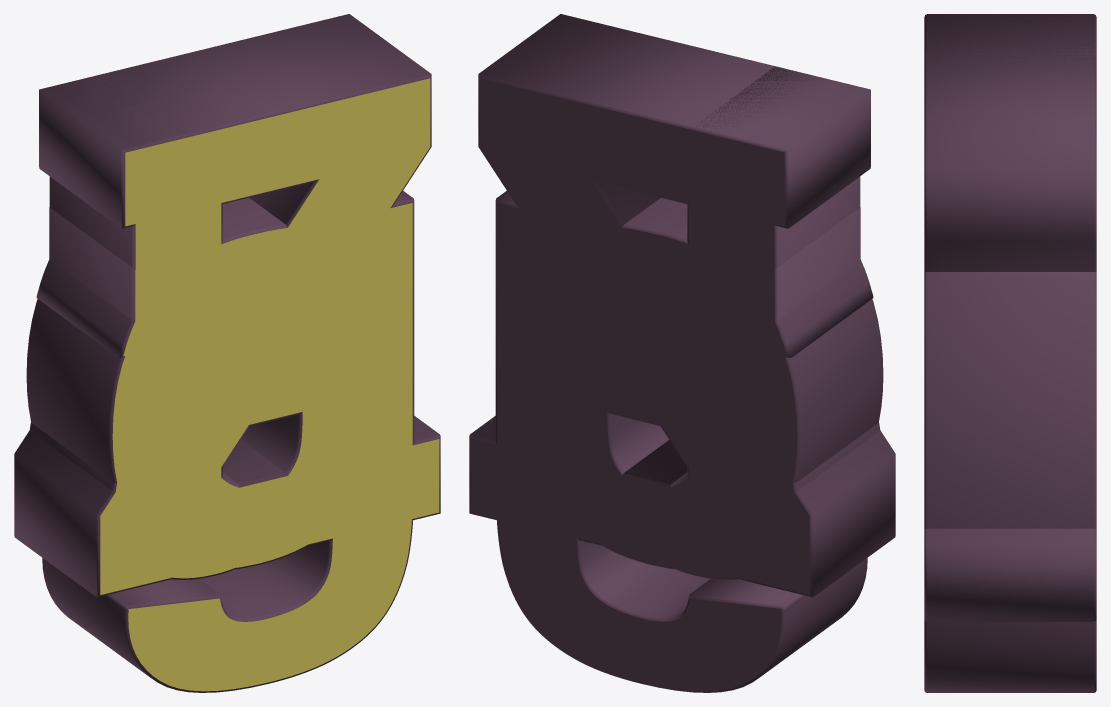
File: hero-lettering.glb
3 renders of one model, left to right at view 1: azimuth 30°, elevation 25°; view 2: azimuth 150°, elevation 25°; view 3: azimuth 270°, elevation 25°, orthographic.
Parts seen in each view (by area): view 1: HeroGlyph_Feng_0, HeroGlyph_Zhan_0, HeroGlyph_Feng_3, HeroGlyph_Feng_1, HeroGlyph_Zhan_2, HeroGlyph_Feng_2, HeroGlyph_Zhan_1; view 2: HeroGlyph_Feng_3, HeroGlyph_Zhan_0, HeroGlyph_Feng_0, HeroGlyph_Feng_1, HeroGlyph_Zhan_2, HeroGlyph_Zhan_1, HeroGlyph_Feng_2; view 3: HeroGlyph_Zhan_0, HeroGlyph_Feng_3, HeroGlyph_Feng_0.
Part boxes in pixels (bbox=[...]): HeroGlyph_Feng_0: bbox=[51, 16, 424, 585]; HeroGlyph_Zhan_0: bbox=[14, 14, 440, 597]; HeroGlyph_Feng_3: bbox=[42, 191, 414, 692]; HeroGlyph_Feng_1: bbox=[26, 211, 390, 569]; HeroGlyph_Zhan_2: bbox=[29, 198, 392, 579]; HeroGlyph_Feng_2: bbox=[49, 207, 410, 586]; HeroGlyph_Zhan_1: bbox=[49, 67, 410, 584]; HeroGlyph_Feng_3: bbox=[495, 191, 867, 692]; HeroGlyph_Zhan_0: bbox=[469, 14, 895, 597]; HeroGlyph_Feng_0: bbox=[485, 16, 857, 578]; HeroGlyph_Feng_1: bbox=[521, 211, 883, 569]; HeroGlyph_Zhan_2: bbox=[529, 198, 880, 579]; HeroGlyph_Zhan_1: bbox=[500, 66, 860, 582]; HeroGlyph_Feng_2: bbox=[499, 207, 860, 588]; HeroGlyph_Zhan_0: bbox=[924, 14, 1096, 621]; HeroGlyph_Feng_3: bbox=[924, 272, 1096, 692]; HeroGlyph_Feng_0: bbox=[924, 20, 1096, 164].
Bounding box in the file's own units: 0.4121 × 0.6528 × 0.176.
